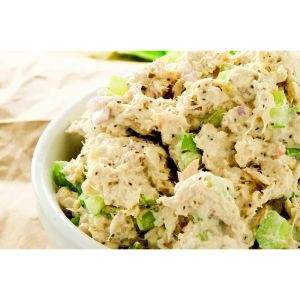tuna_brain food: (66, 59, 287, 238)
